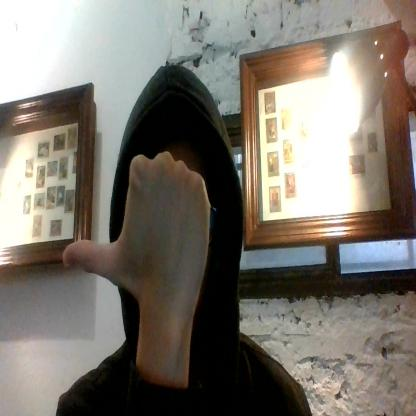right: (61, 142, 213, 306)
